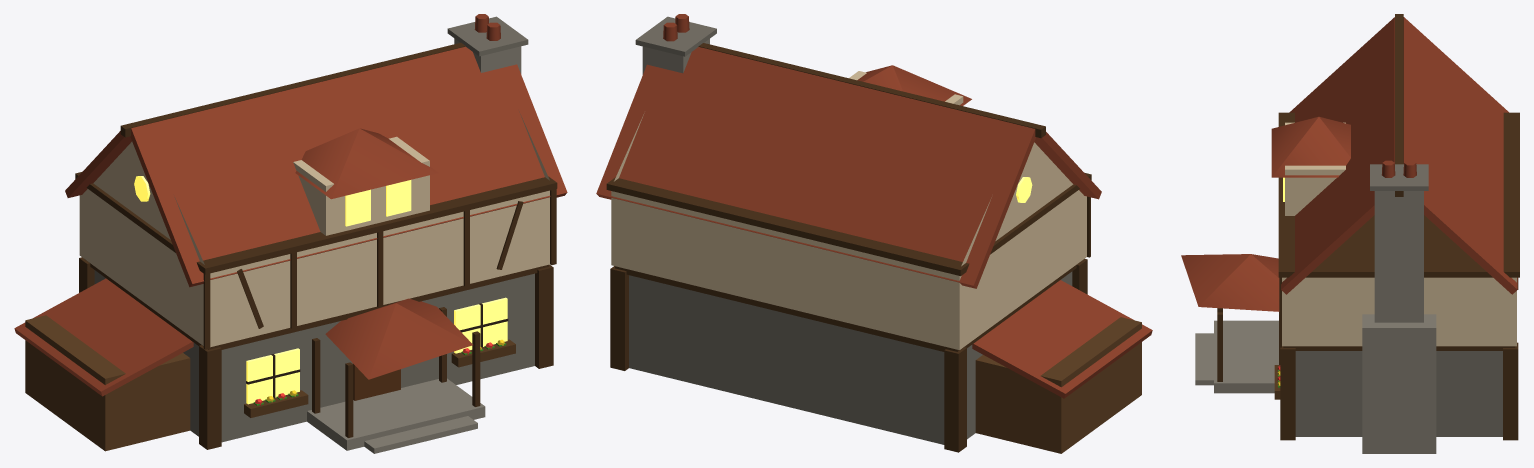
The model's file is grand_cottage_house.glb.
3 renders of one model, left to right at view 1: azimuth 30°, elevation 25°; view 2: azimuth 150°, elevation 25°; view 3: azimuth 270°, elevation 25°, orthographic. The views are drawn at different scales.
Visible parts, largest first — view 1: GrandCottageHouse; view 2: GrandCottageHouse; view 3: GrandCottageHouse.
Part boxes in pixels (x1,y1,x2,y2): GrandCottageHouse: [14, 14, 567, 453]; GrandCottageHouse: [596, 14, 1152, 453]; GrandCottageHouse: [1181, 14, 1519, 453].
Size of the model in its own units: 16.01 by 9.88 by 10.96.
